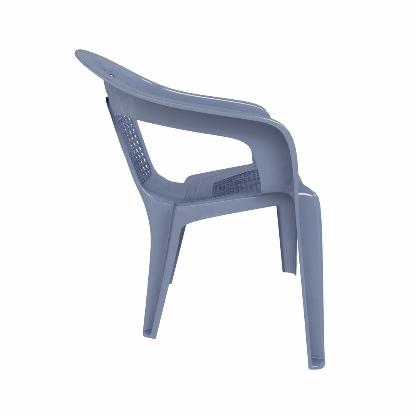chair: (70, 38, 340, 381)
